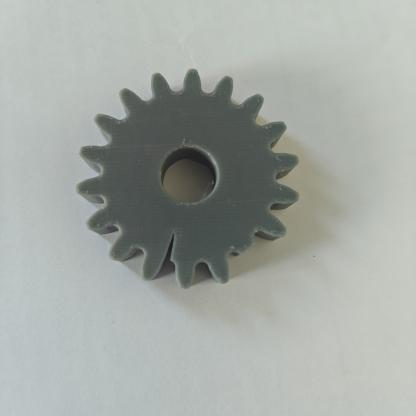defect: (132, 196, 198, 297), (218, 215, 292, 282)
gear: (64, 60, 320, 308)
